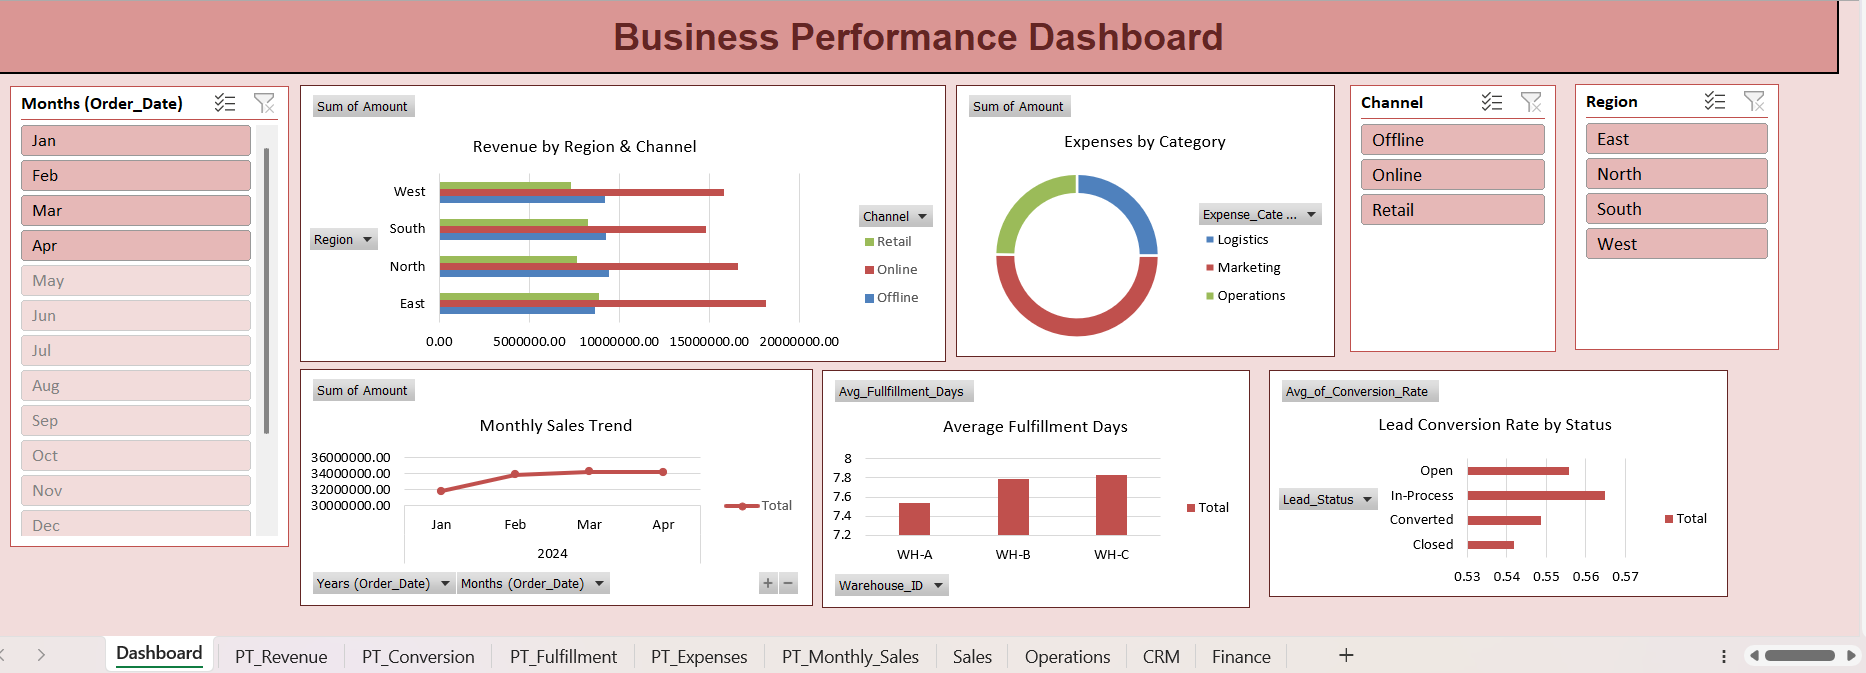

This screenshot's page, from the dashboard's own definition file:
{"tool":"powerbi","page":{"name":"Kulturehire_Task 9","canvas":[1280,720],"ordinal":0},"visuals":[{"type":"lineChart","title":"Monthly Sales Trend","fields":{"Y":["Sum(Sales.Amount)"],"Category":["Sales.Order_Date.Variation.Date Hierarchy.Year","Sales.Order_Date.Variation.Date Hierarchy.Month"]},"box":[439.1,470.2,399.3,249.7],"z":0},{"type":"clusteredBarChart","title":"Conversion Rate by Lead Status","fields":{"Category":["CRM.Lead_Status"],"Y":["Avg(CRM.Conversion_Rate)"]},"box":[8.2,470.7,399,249.7],"z":1000},{"type":"donutChart","title":"Expenses by Category","fields":{"Category":["Finance.Expense_Category"],"Y":["Sum(Finance.Amount)"]},"box":[871.4,211.3,399.3,248.4],"z":2000},{"type":"clusteredColumnChart","title":"Fullfillment_Days by Warehouse","fields":{"Y":["Avg(Operation.Fullfillment_Days)"],"Category":["Operation.Warehouse_ID"]},"box":[437.7,209.9,399.3,249.7],"z":3000},{"type":"shape","box":[4.1,8.2,1270.7,72.7],"z":4000},{"type":"clusteredBarChart","title":"Customer Distribution by Region","fields":{"Category":["Sales.Region"],"Y":["CountNonNull(Sales.Customer_ID)"]},"box":[872.7,470.2,399.3,249.7],"z":5000},{"type":"slicer","fields":{"Values":["Sales.Channel"]},"box":[849.4,89.2,197.6,115.3],"z":6000},{"type":"slicer","fields":{"Values":["Sales.Order_Date"]},"box":[1071.7,87.8,197.6,115.3],"z":7000},{"type":"columnChart","title":"Revenue by Channel","fields":{"Category":["Sales.Channel"],"Y":["Sum(Sales.Amount)"]},"box":[8.2,209.9,399.3,249.7],"z":8000},{"type":"card","fields":{"Values":["Sum(Sales.Amount)"]},"box":[8.2,93.3,249.7,102.9],"z":9000},{"type":"card","fields":{"Values":["Avg(CRM.Conversion_Rate)"]},"box":[290.9,94.7,248.4,102.9],"z":10000},{"type":"card","fields":{"Values":["Avg(Operation.Fullfillment_Days)"]},"box":[576.3,93.3,248.4,102.9],"z":11000}]}

Visuals, with their boxes on the page's 1280x720 design canvas (x1, y1, x2, y2). These are canvas units, not pixel positions in the 1866x673 screenshot, which may show the page scaled, cropped or inside an application window:
"Monthly Sales Trend" lineChart: Rect(439, 470, 838, 720)
"Conversion Rate by Lead Status" clusteredBarChart: Rect(8, 471, 407, 720)
"Expenses by Category" donutChart: Rect(871, 211, 1271, 460)
"Fullfillment_Days by Warehouse" clusteredColumnChart: Rect(438, 210, 837, 460)
shape: Rect(4, 8, 1275, 81)
"Customer Distribution by Region" clusteredBarChart: Rect(873, 470, 1272, 720)
slicer - Sales.Channel: Rect(849, 89, 1047, 204)
slicer - Sales.Order_Date: Rect(1072, 88, 1269, 203)
"Revenue by Channel" columnChart: Rect(8, 210, 408, 460)
card - Sum(Sales.Amount): Rect(8, 93, 258, 196)
card - Avg(CRM.Conversion_Rate): Rect(291, 95, 539, 198)
card - Avg(Operation.Fullfillment_Days): Rect(576, 93, 825, 196)
